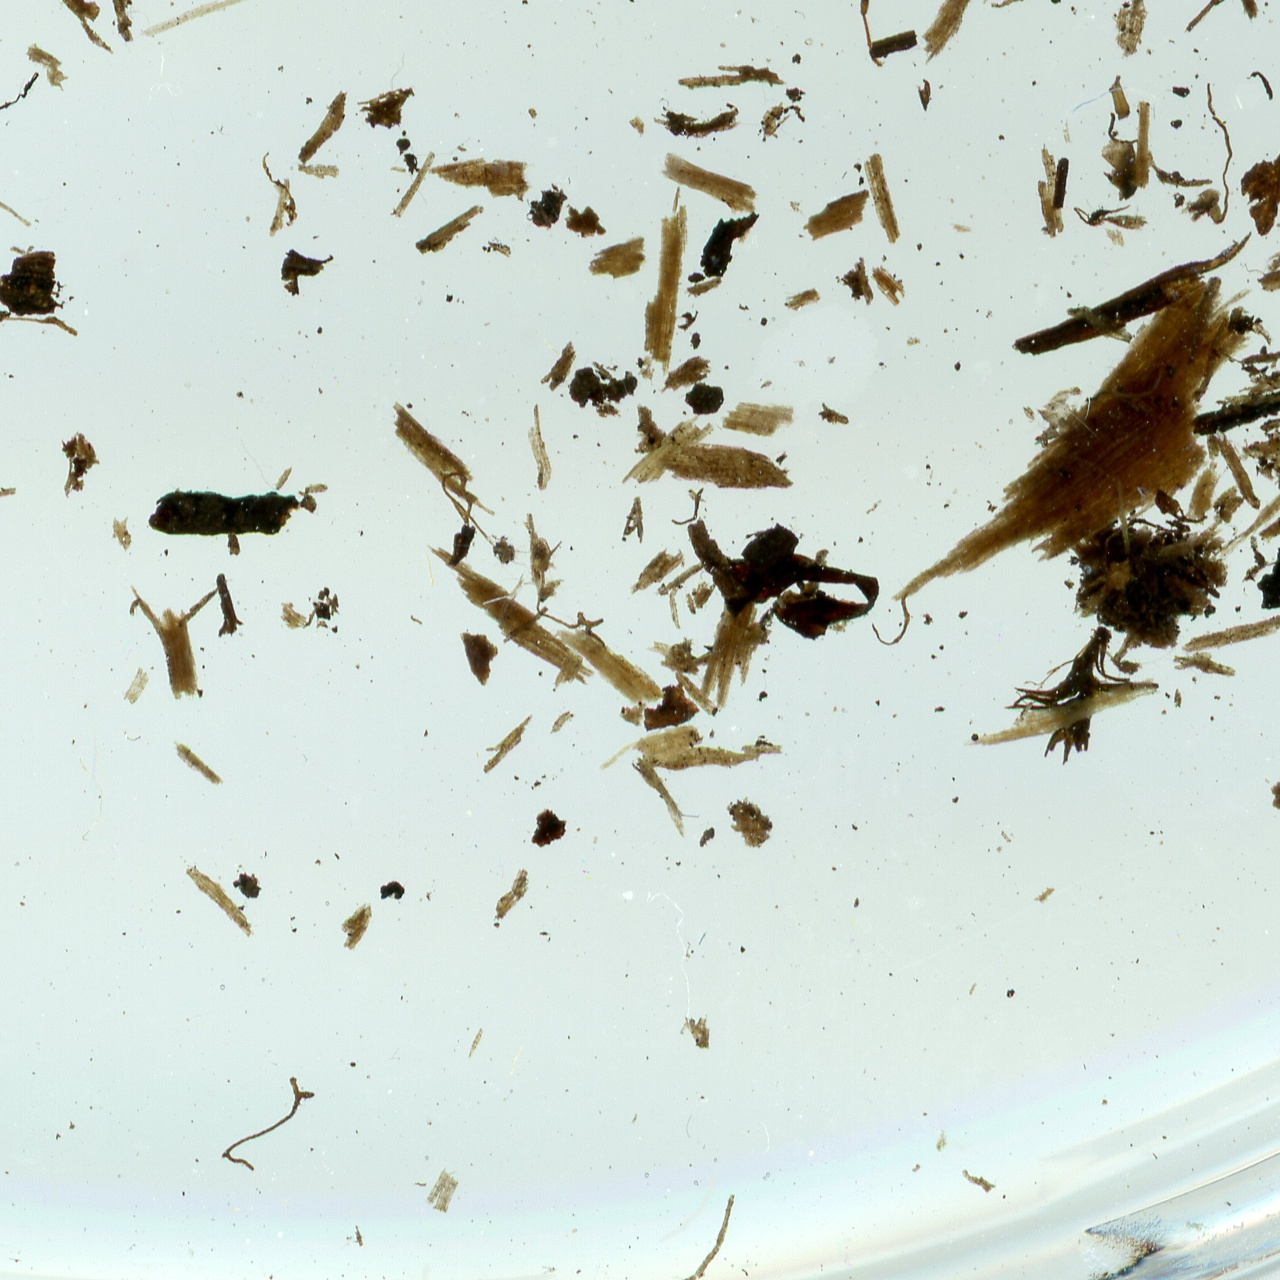arthropod: (751, 0, 978, 72)
